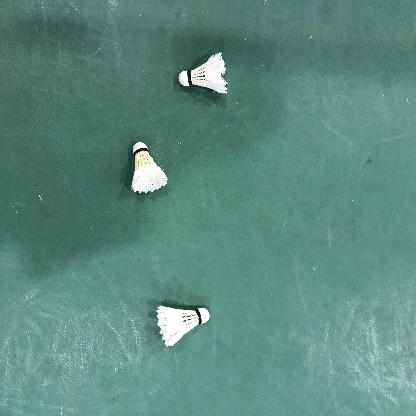ball_single: (156, 306, 210, 347), (179, 52, 228, 93), (132, 142, 168, 194)
